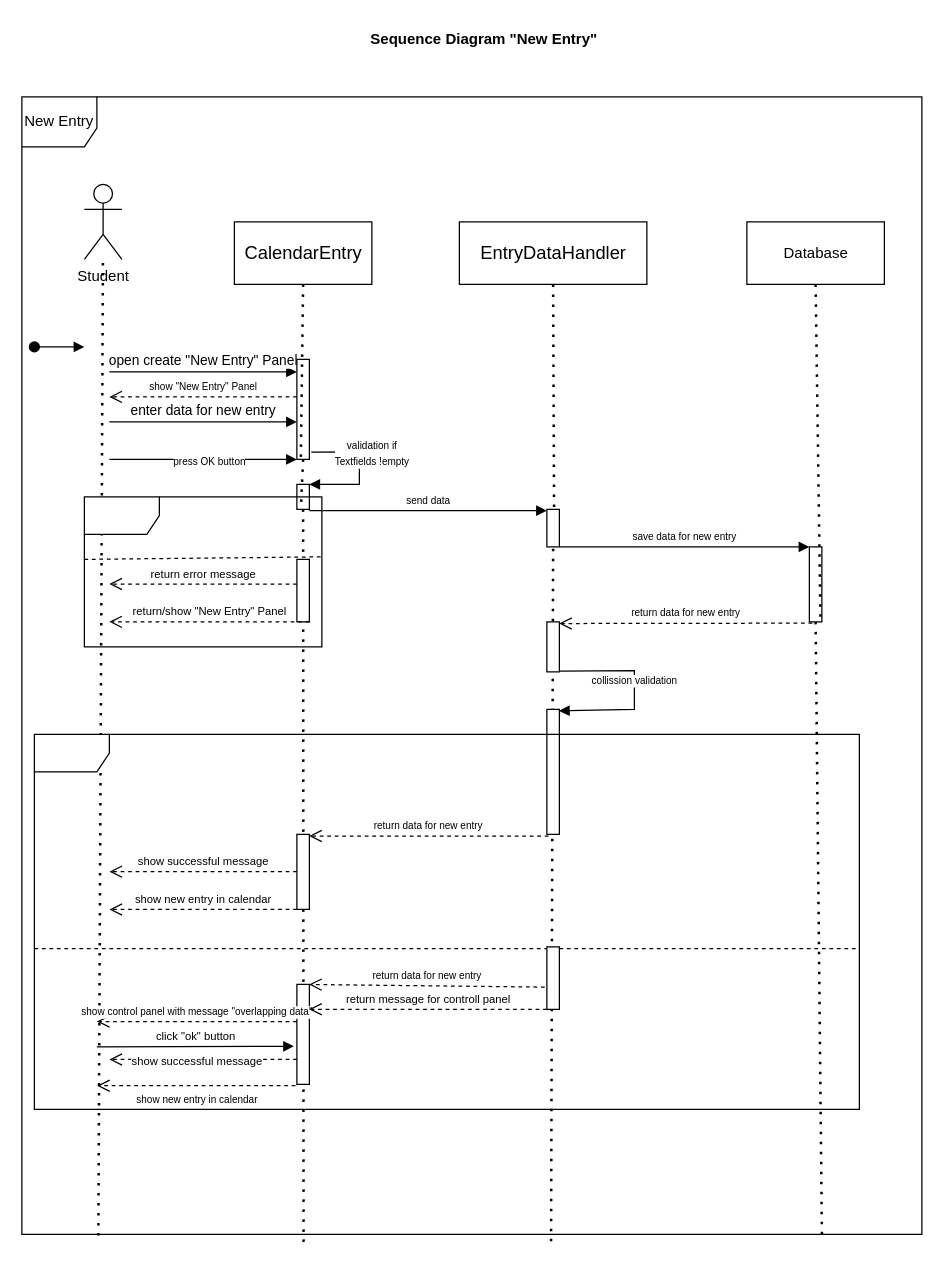
The diagram is 944 pixels wide and 1269 high, and some of its shapes have lost their labels. The shapes that lost their labels are listed below. From the top down, each one's centre as x and y in pixels, then its label:
point (202, 571): frame
point (446, 921): ALT
